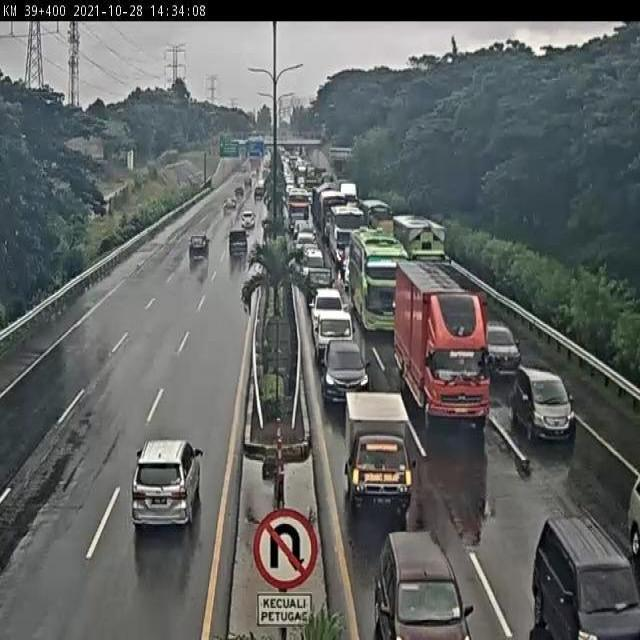car: (516, 504, 637, 640), (373, 514, 466, 640), (341, 396, 414, 517), (133, 439, 202, 529), (513, 363, 577, 443), (321, 340, 372, 404), (482, 318, 520, 382), (314, 314, 357, 366), (309, 292, 348, 331), (303, 269, 336, 304), (227, 231, 249, 260), (188, 236, 209, 261), (303, 251, 328, 271), (342, 252, 357, 285), (297, 234, 317, 258), (293, 219, 316, 239)
truck: (391, 263, 487, 421), (350, 229, 411, 335), (392, 216, 453, 292), (330, 208, 366, 265)
